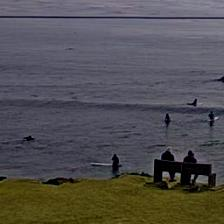surfer: (111, 153, 120, 165), (188, 99, 198, 106), (22, 136, 34, 141), (208, 112, 215, 120), (215, 76, 223, 82), (165, 113, 170, 121)
